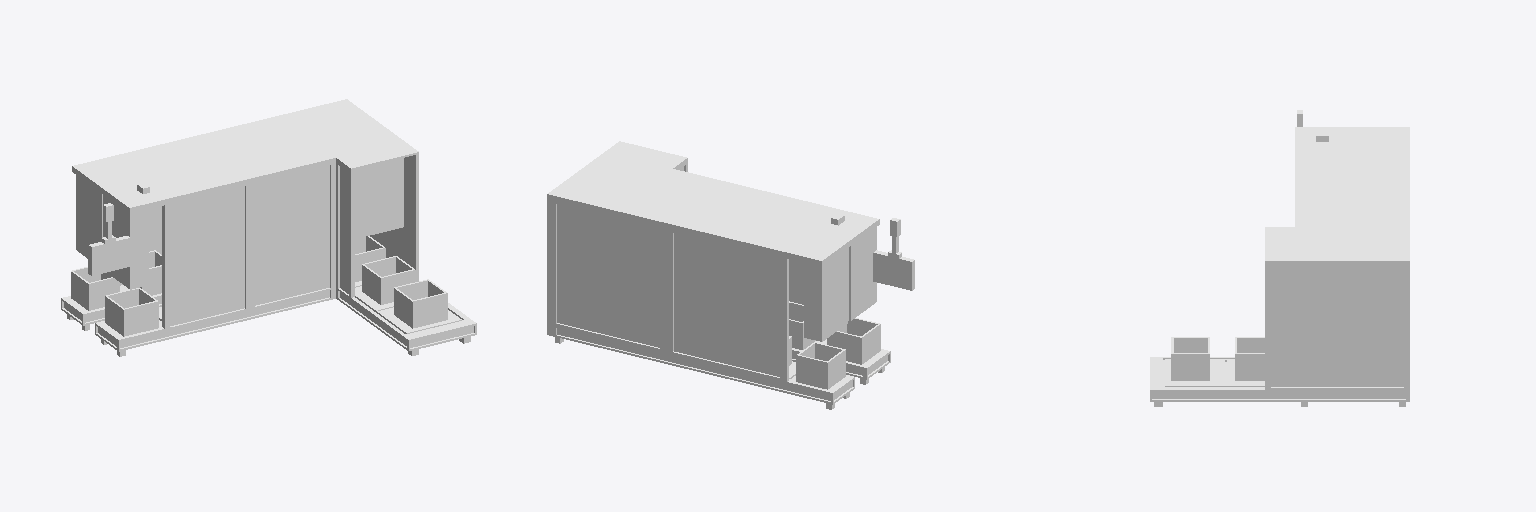
The model's file is machine.obj.
3 renders of one model, left to right at view 1: azimuth 30°, elevation 25°; view 2: azimuth 150°, elevation 25°; view 3: azimuth 270°, elevation 25°, orthographic.
Parts seen in each view (by area): view 1: object 1; view 2: object 1; view 3: object 1.
Part boxes in pixels (bbox=[...]): object 1: bbox=[61, 99, 476, 356]; object 1: bbox=[547, 141, 914, 409]; object 1: bbox=[1150, 110, 1409, 406].
Size of the model in its own units: 16.9 by 8 by 12.2.